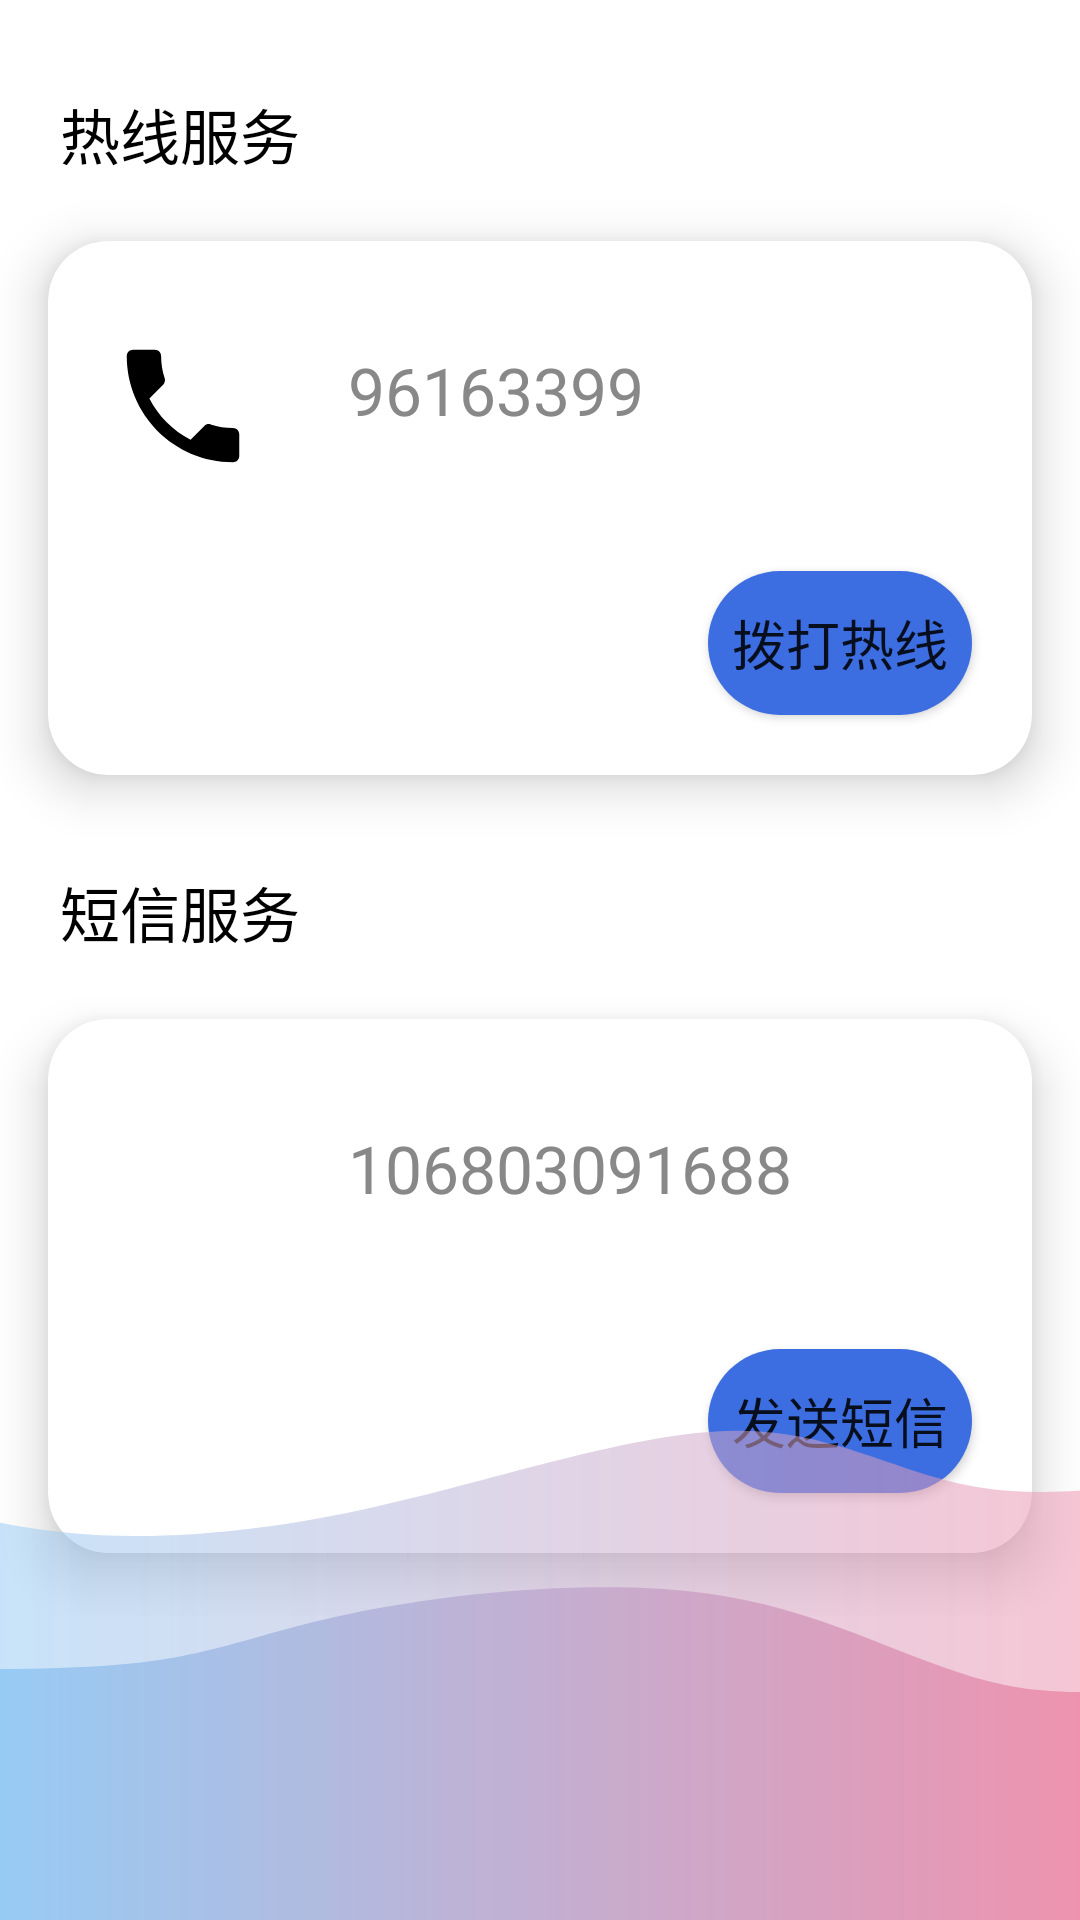

Screen size 1080 × 1920. Icon name, then its center in pixels as (x=x, y=y):
contact phone: (x=183, y=406)
